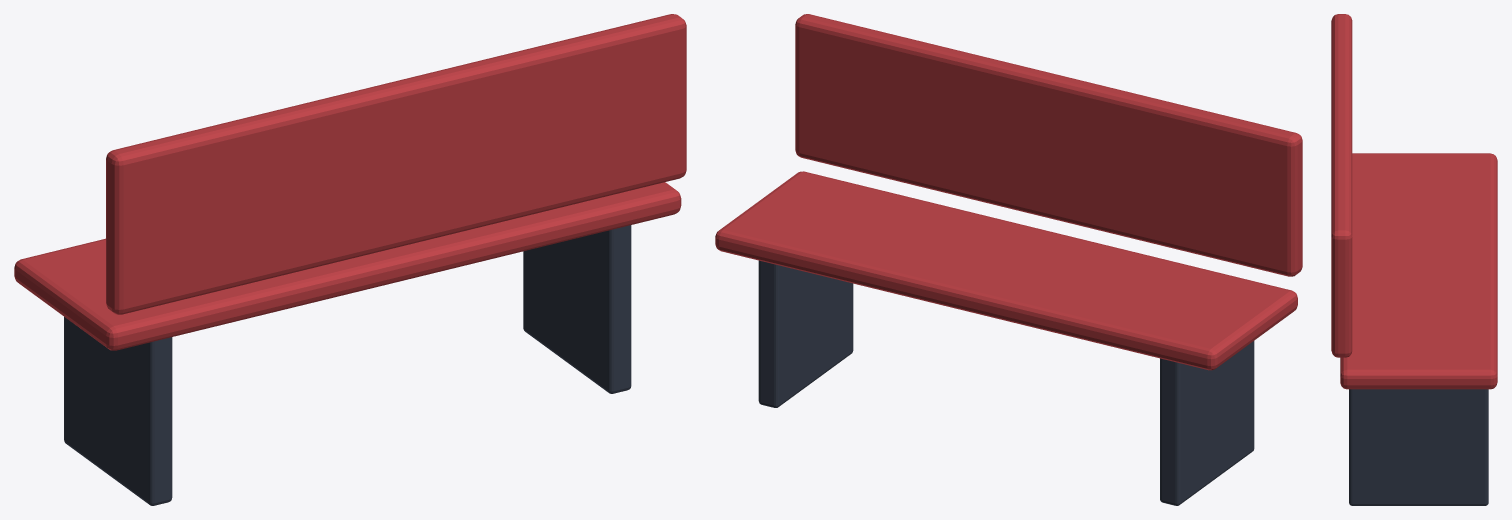
The model's file is bench.glb.
3 views of the same model, side by side, from view 1: azimuth 30°, elevation 25°; view 2: azimuth 150°, elevation 25°; view 3: azimuth 270°, elevation 25° (orthographic). The views are drawn at different scales.
Visible parts, largest first — view 1: bench_back, bench, bench_leg0, bench_leg1; view 2: bench_back, bench, bench_leg0, bench_leg1; view 3: bench, bench_leg1, bench_back.
Boxes of the visible parts, box(x1,y1,x2,y2) form: bench_back: box(106, 14, 686, 314); bench: box(14, 182, 681, 350); bench_leg0: box(64, 317, 172, 505); bench_leg1: box(523, 225, 631, 393); bench_back: box(795, 14, 1302, 276); bench: box(715, 171, 1297, 370); bench_leg0: box(1160, 341, 1254, 505); bench_leg1: box(758, 260, 853, 407); bench: box(1340, 153, 1497, 389); bench_leg1: box(1349, 389, 1488, 505); bench_back: box(1331, 14, 1352, 357).
Size of the model in its own units: 1.5 by 0.92 by 0.475.
